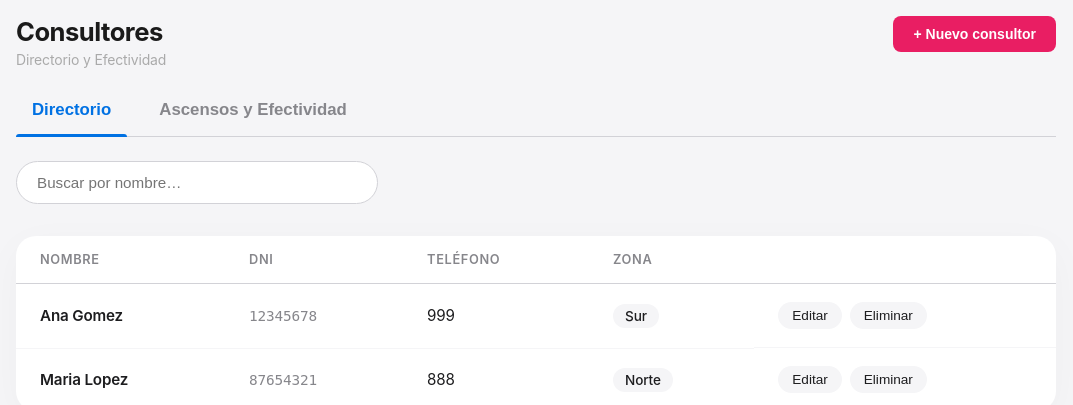
ConsultantsView.vue (HU1 y HU3) › muestra correctamente el nivel y barra de progreso de efectividad (HU3)
What coordinates should you click on to do the following:
click the button with class "tab-btn" showing "Ascensos y Efectividad"
I would click on:
 (253, 110)
Its box is [143, 92, 363, 128].
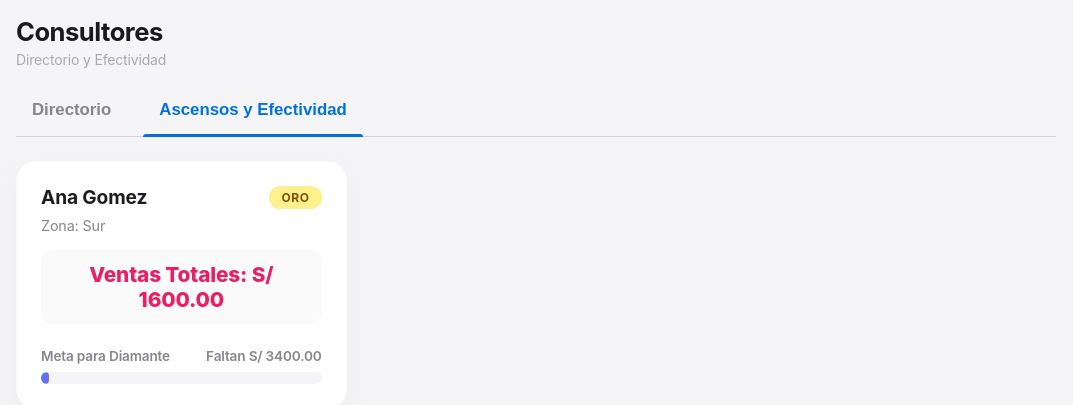
Expected: the text "Oro" is shown, [270, 186, 322, 209]
Expected: the text "Ventas Totales: S/ 1600.00" is shown, [89, 262, 273, 312]
Expected: the text "Faltan S/ 3400.00" is shown, [206, 348, 322, 364]
